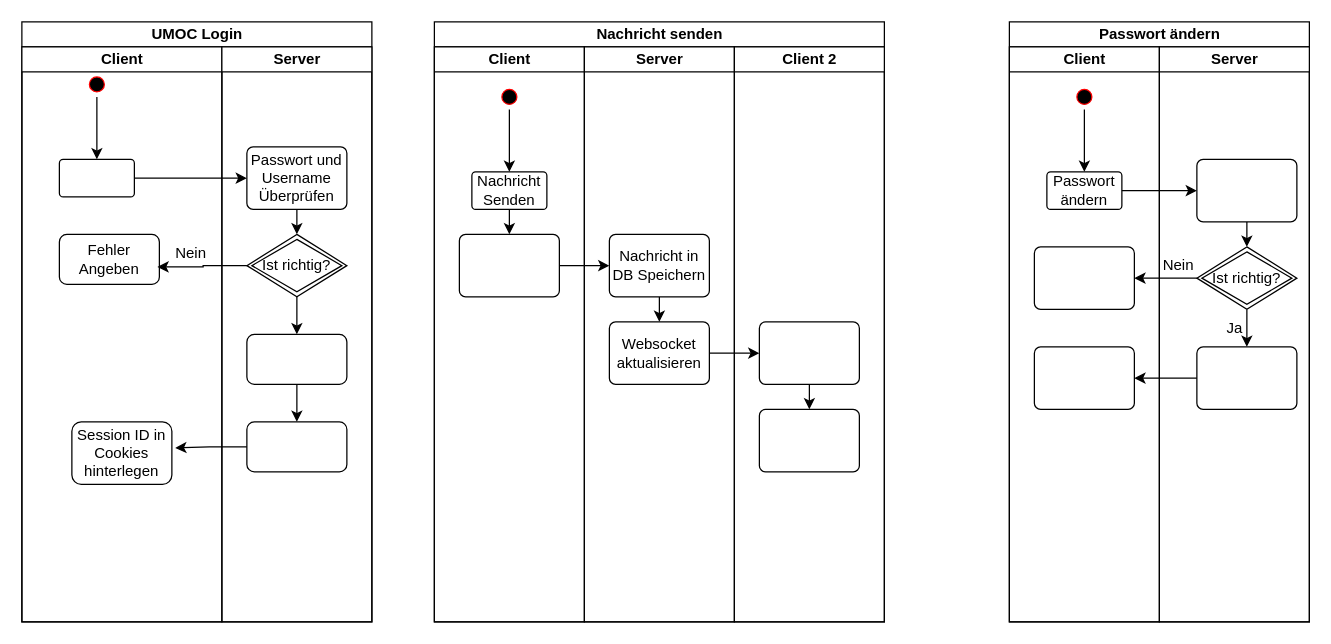
Some shapes in this 1331 by 644 pixel diagram are drawn without their labels. The shapes that lost their labels are listed below. From the top down, each one's centre as x and y in pixels, then its label:
[96,177]: Login
[1246,190]: Altes Passwort überprüfen
[508,265]: Verschlüsseln
[1083,277]: Fehler anzeigen
[296,358]: Session ID erzeugen
[808,352]: Nachricht entschlüsseln
[1083,377]: bestätigen
[1246,377]: Neues Passwort Speichern
[296,446]: Session ID Speichern
[808,440]: Nachricht anzeigen
